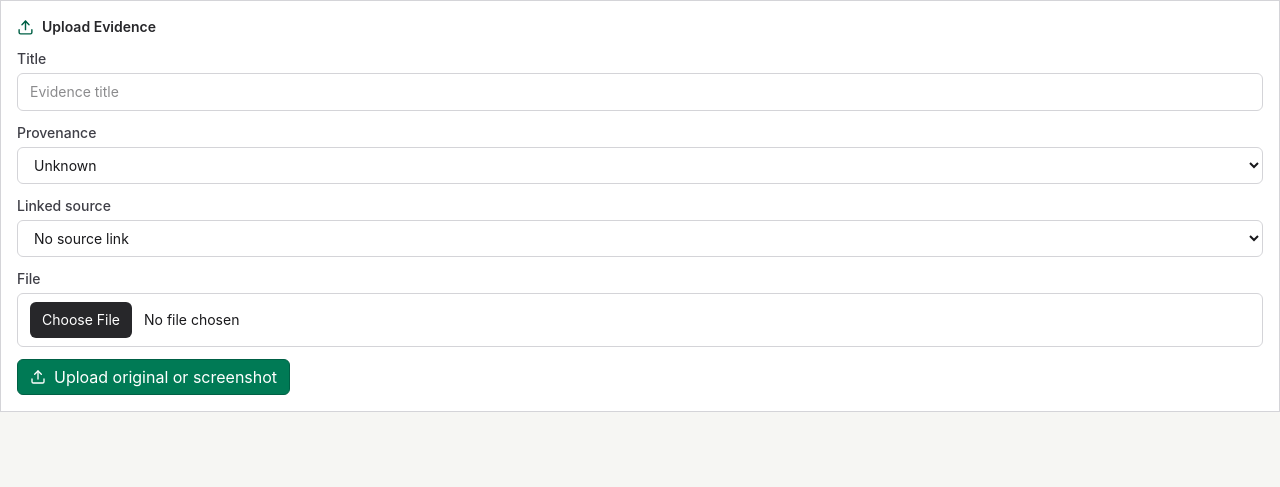
Scenario: upload form validates missing file
The width and height of the screenshot is (1280, 487).
Click the button "Upload original or screenshot" at (154, 377), box [17,359,290,395]
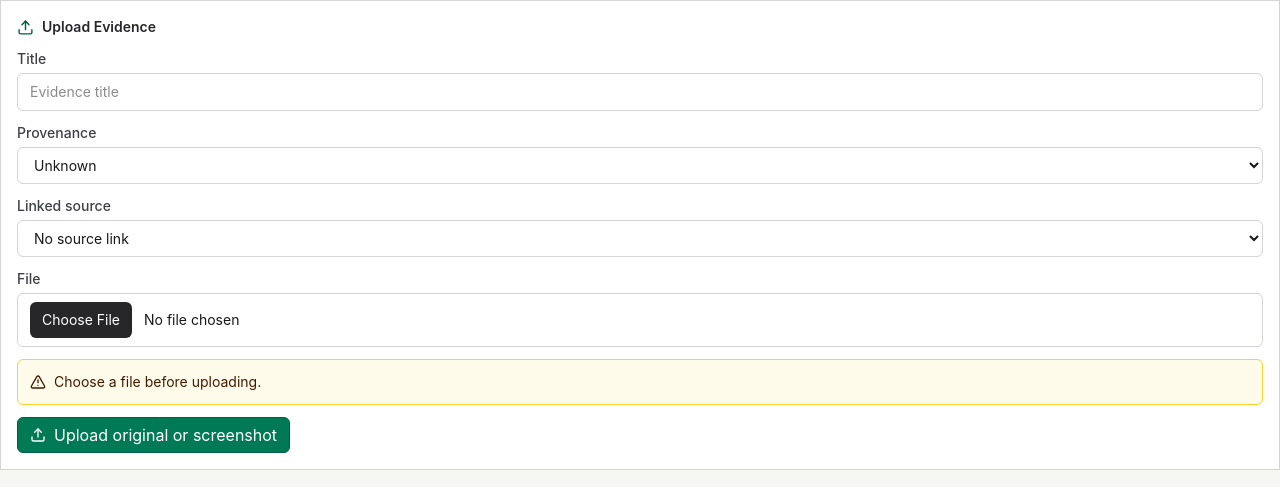
Result: the text "Choose a file before uploading." is shown at [54,372,261,392]
